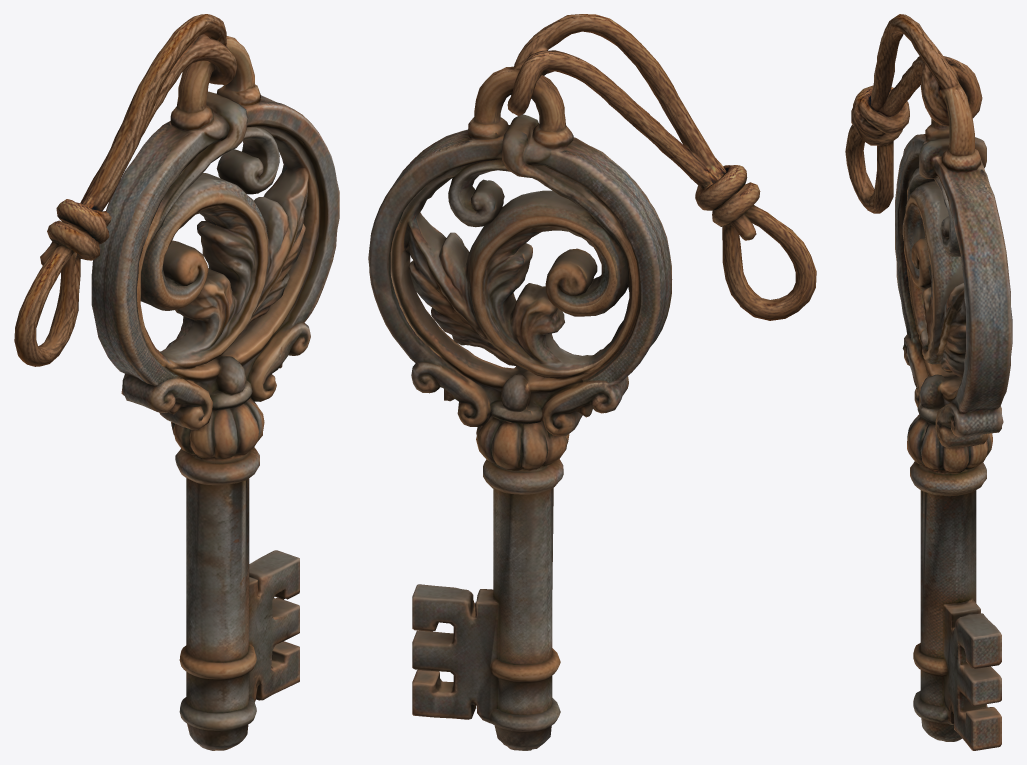
Rendered from key.glb.
3 renders of one model, left to right at view 1: azimuth 30°, elevation 25°; view 2: azimuth 150°, elevation 25°; view 3: azimuth 270°, elevation 25°, orthographic. The views are drawn at different scales.
Visible parts, largest first — view 1: tripo_node_000b3dc5-4d8a-4a3d-bd74-94eeb59b4397; view 2: tripo_node_000b3dc5-4d8a-4a3d-bd74-94eeb59b4397; view 3: tripo_node_000b3dc5-4d8a-4a3d-bd74-94eeb59b4397.
Boxes of the visible parts, bbox=[...] form: tripo_node_000b3dc5-4d8a-4a3d-bd74-94eeb59b4397: bbox=[14, 14, 339, 750]; tripo_node_000b3dc5-4d8a-4a3d-bd74-94eeb59b4397: bbox=[368, 14, 816, 750]; tripo_node_000b3dc5-4d8a-4a3d-bd74-94eeb59b4397: bbox=[845, 14, 1012, 750].
Size of the model in its own units: 0.5261 by 0.9776 by 0.2123.
Materials: 1 (1 with a texture image).
